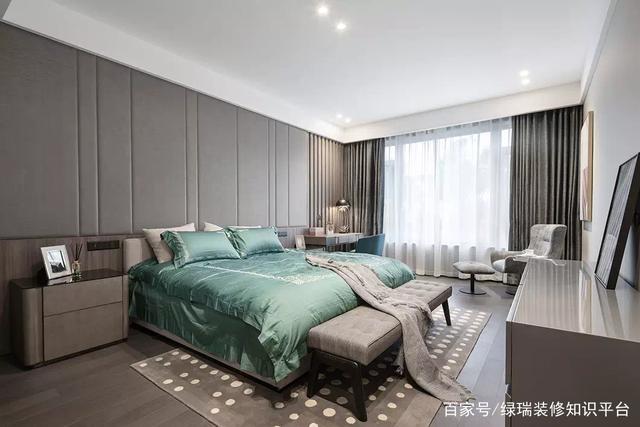床: (133, 253, 458, 402)
枕头: (138, 223, 293, 268)
灯: (309, 3, 349, 39), (325, 197, 353, 235)
